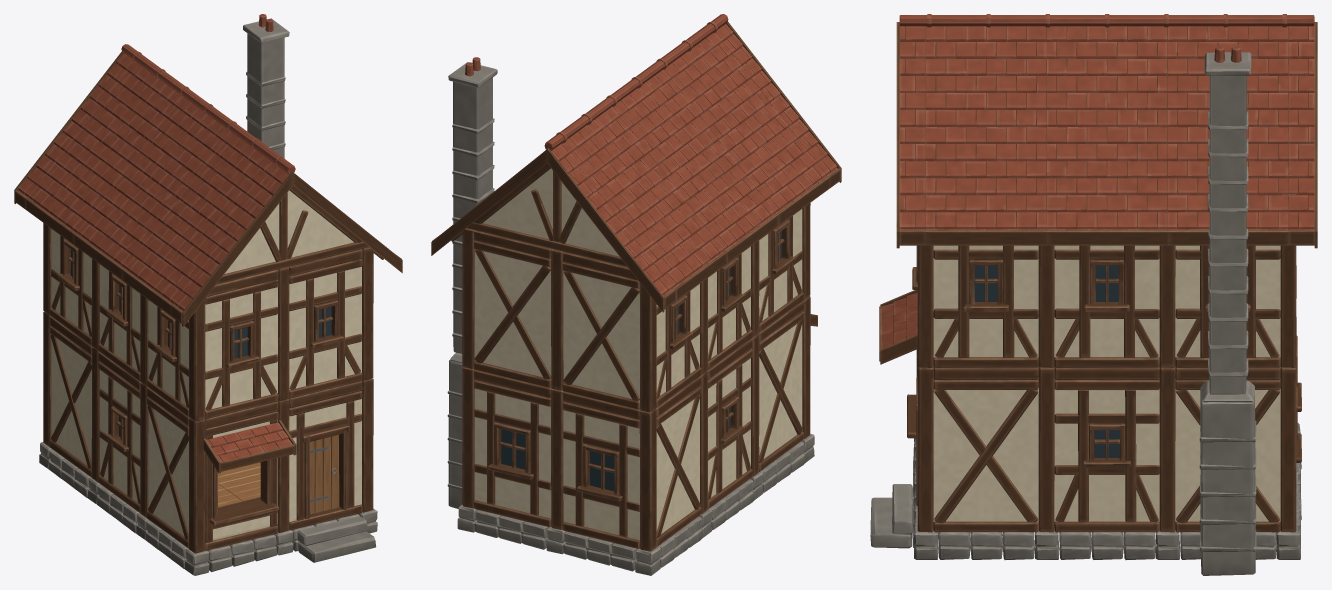
File: house_townhouse_godot.glb
The picture shows the model from 3 angles, left to right: view 1: azimuth 30°, elevation 25°; view 2: azimuth 150°, elevation 25°; view 3: azimuth 270°, elevation 25°; orthographic projection. The views are drawn at different scales.
Visible parts, largest first — view 1: house_townhouse_static; view 2: house_townhouse_static; view 3: house_townhouse_static.
Part boxes in pixels (box(x1,y1,x2,y2)): house_townhouse_static: box(14, 14, 402, 575); house_townhouse_static: box(431, 14, 841, 575); house_townhouse_static: box(870, 14, 1317, 575).
Size of what is drawn, in the model's own units: 5.51 by 9.52 by 7.4.
7 materials, 7 textured.
